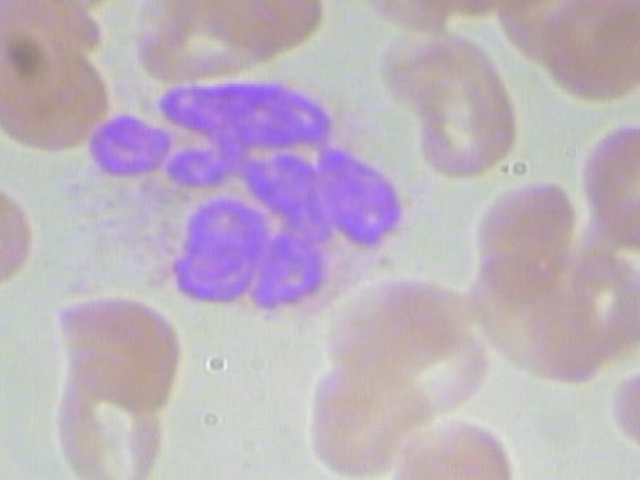RBC: (378, 22, 523, 181), (297, 352, 434, 480), (318, 264, 466, 375), (50, 293, 182, 411), (467, 172, 582, 305), (0, 28, 111, 154), (47, 378, 179, 480), (127, 0, 279, 86), (540, 0, 640, 99), (555, 240, 640, 354), (388, 414, 525, 480), (586, 120, 640, 252), (0, 170, 37, 299), (608, 333, 640, 458)
WBC: (36, 70, 437, 313)
